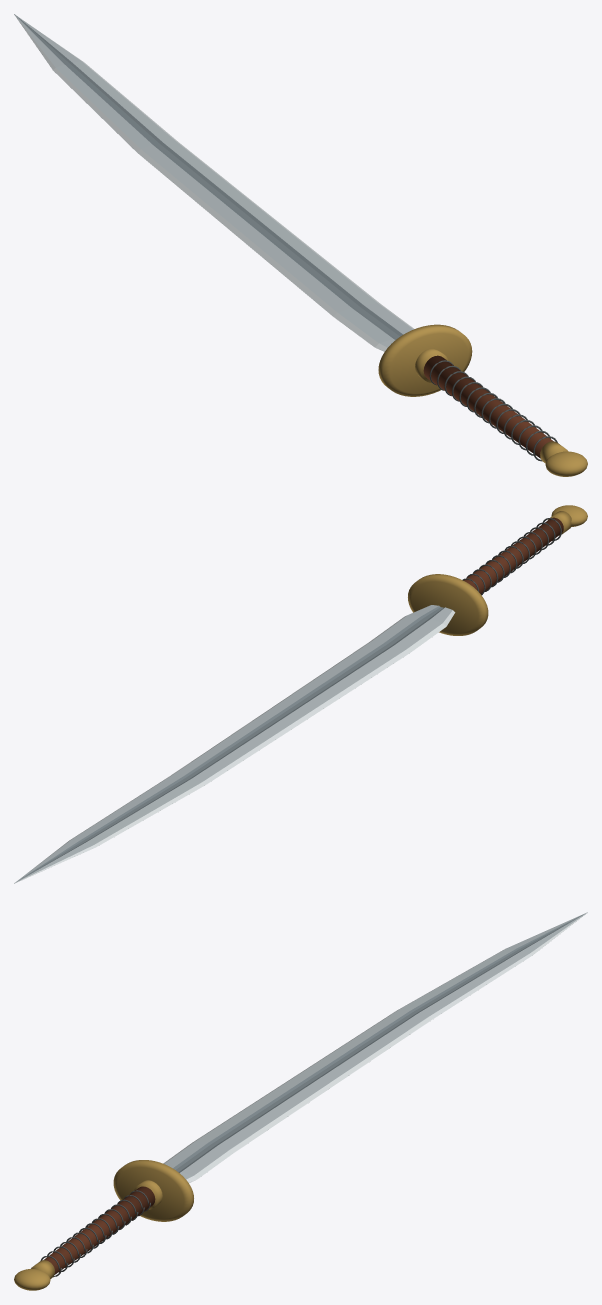
File: ember.glb
3 views of the same model, one above another, from view 1: azimuth 30°, elevation 25°; view 2: azimuth 150°, elevation 25°; view 3: azimuth 330°, elevation 25° (orthographic). The views are drawn at different scales.
Visible parts, largest first — view 1: Forged_ember; view 2: Forged_ember; view 3: Forged_ember.
Boxes of the visible parts, bbox=[...] form: Forged_ember: bbox=[14, 14, 587, 476]; Forged_ember: bbox=[14, 505, 587, 883]; Forged_ember: bbox=[14, 912, 587, 1290].
Bounding box in the file's own units: 0.1823 × 0.1204 × 2.03.
